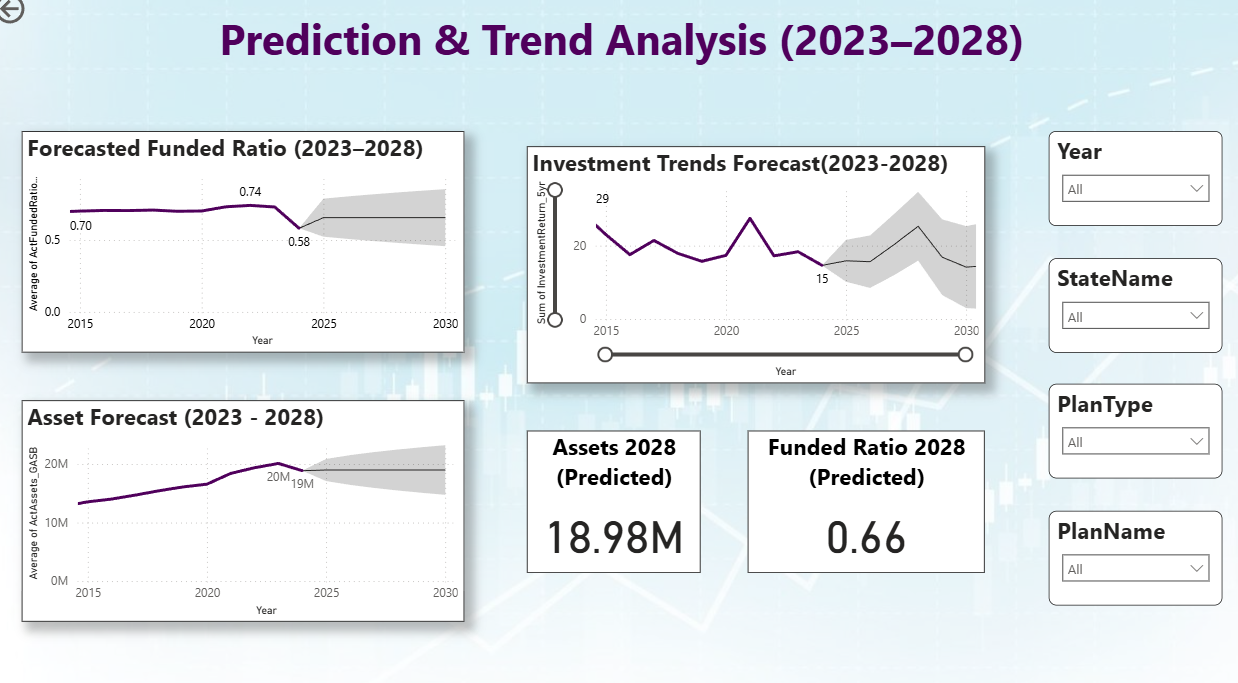

What the dashboard file says about the page in this screenshot:
{"tool":"powerbi","page":{"name":"Prediction & Trend Analysis (2023–2028)","canvas":[1280,720],"ordinal":2},"visuals":[{"type":"textbox","box":[176,16,928,80],"z":0},{"type":"lineChart","title":"Forecasted Funded Ratio (2023–2028)","fields":{"Y":["Avg(cleaned_data.ActFundedRatio_GASB)"],"Category":["cleaned_data.Year"]},"box":[32,144,448,224],"z":1000},{"type":"lineChart","title":"Asset Forecast (2023 - 2028)","fields":{"Category":["cleaned_data.Year"],"Y":["Avg(cleaned_data.ActAssets_GASB)"]},"box":[32,416,448,224],"z":2000},{"type":"card","title":"Funded Ratio 2028 (Predicted)","fields":{"Values":["Sum(Funded.P-value)"]},"box":[768,448,240,144],"z":3000},{"type":"card","title":"Assets 2028 (Predicted)","fields":{"Values":["Sum(Table.Pvalue)"]},"box":[544,448,176,144],"z":4000},{"type":"lineChart","title":"Investment Trends Forecast(2023-2028)","fields":{"Category":["cleaned_data.Year"],"Y":["Sum(cleaned_data.InvestmentReturn_5yr)"]},"box":[544,160,464,240],"z":5000},{"type":"slicer","title":"Year","fields":{"Values":["cleaned_data.Year"]},"box":[1072,144,176,96],"z":6000},{"type":"actionButton","box":[0,0,100,40],"z":7000},{"type":"slicer","title":"StateName","fields":{"Values":["cleaned_data.StateName"]},"box":[1072,272,176,96],"z":8000},{"type":"slicer","title":"PlanType","fields":{"Values":["cleaned_data.PlanType"]},"box":[1072,400,176,96],"z":9000},{"type":"slicer","title":"PlanName","fields":{"Values":["cleaned_data.PlanName"]},"box":[1072,528,176,96],"z":10000}]}

Visuals, with their boxes in screenshot pixels (x1, y1, x2, y2), scaled from the page's 1280x720 canvas onto the 1238x683 screenshot:
textbox: 170,15,1068,91
"Forecasted Funded Ratio (2023–2028)" lineChart: 31,137,464,349
"Asset Forecast (2023 - 2028)" lineChart: 31,395,464,607
"Funded Ratio 2028 (Predicted)" card: 743,425,975,562
"Assets 2028 (Predicted)" card: 526,425,696,562
"Investment Trends Forecast(2023-2028)" lineChart: 526,152,975,379
"Year" slicer: 1037,137,1207,228
actionButton: 0,0,97,38
"StateName" slicer: 1037,258,1207,349
"PlanType" slicer: 1037,379,1207,471
"PlanName" slicer: 1037,501,1207,592
